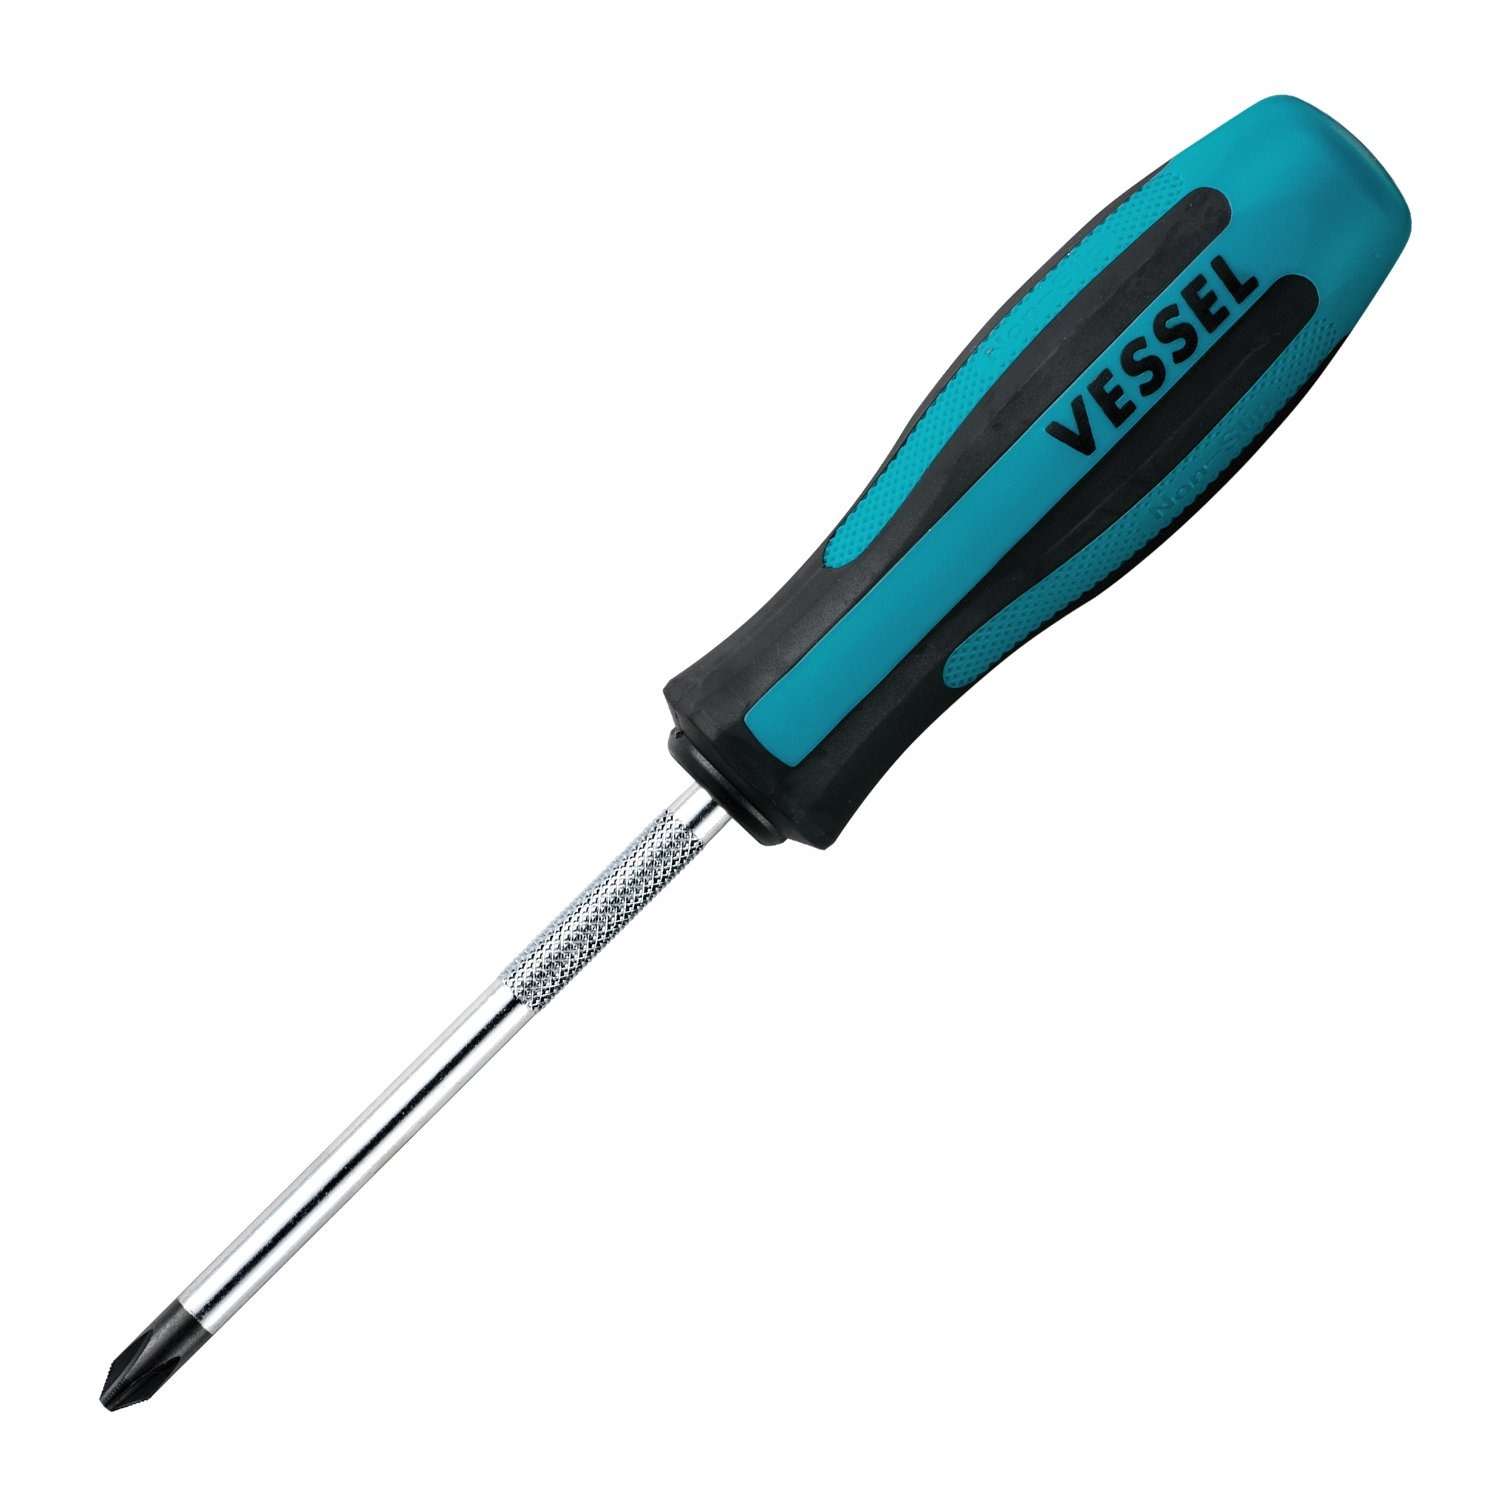screwdriver: (92, 63, 1415, 1420)
